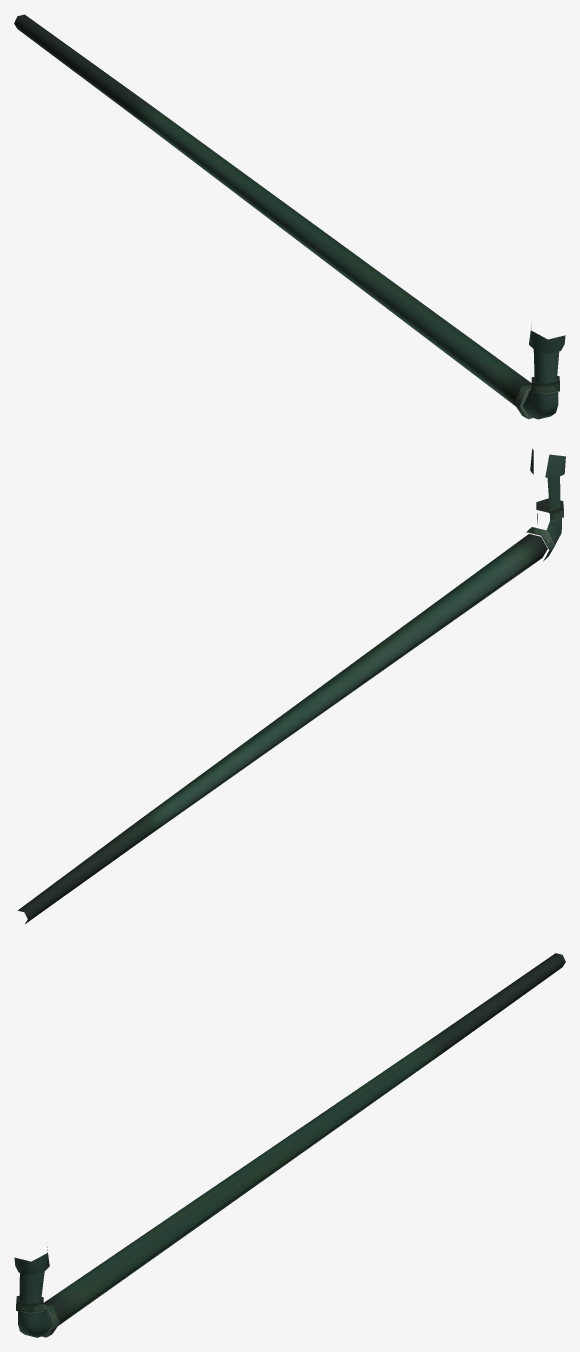
Rendered from edge_vert_down.glb.
3 views of the same model, one above another, from view 1: azimuth 30°, elevation 25°; view 2: azimuth 150°, elevation 25°; view 3: azimuth 330°, elevation 25° (orthographic). The views are drawn at different scales.
Visible parts, largest first — view 1: pipeworks.edge_vert_down-MeshNodes["pipe_edge_down_01b"], pipeworks.edge_vert_down-MeshNodes["pipe_edge_down_01a"]; view 2: pipeworks.edge_vert_down-MeshNodes["pipe_edge_down_01b"]; view 3: pipeworks.edge_vert_down-MeshNodes["pipe_edge_down_01b"], pipeworks.edge_vert_down-MeshNodes["pipe_edge_down_01a"].
Part boxes in pixels (x1,y1,x2,y2): pipeworks.edge_vert_down-MeshNodes["pipe_edge_down_01b"]: (14, 14, 559, 419); pipeworks.edge_vert_down-MeshNodes["pipe_edge_down_01a"]: (529, 325, 565, 353); pipeworks.edge_vert_down-MeshNodes["pipe_edge_down_01b"]: (18, 476, 563, 923); pipeworks.edge_vert_down-MeshNodes["pipe_edge_down_01b"]: (16, 953, 565, 1337); pipeworks.edge_vert_down-MeshNodes["pipe_edge_down_01a"]: (14, 1247, 49, 1275).
Size of the model in its own units: 1.47 by 4.21 by 39.76.
Materials: 1 (1 with a texture image).
